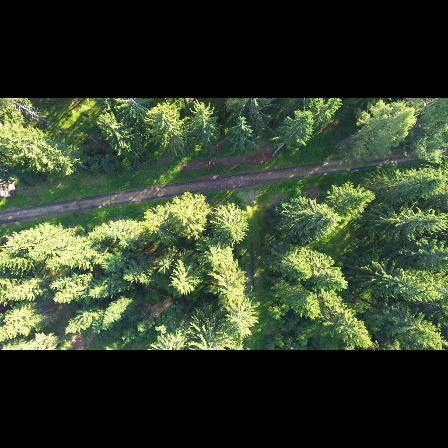Dead: (8, 98, 44, 127)
Sick: (114, 98, 152, 125)
